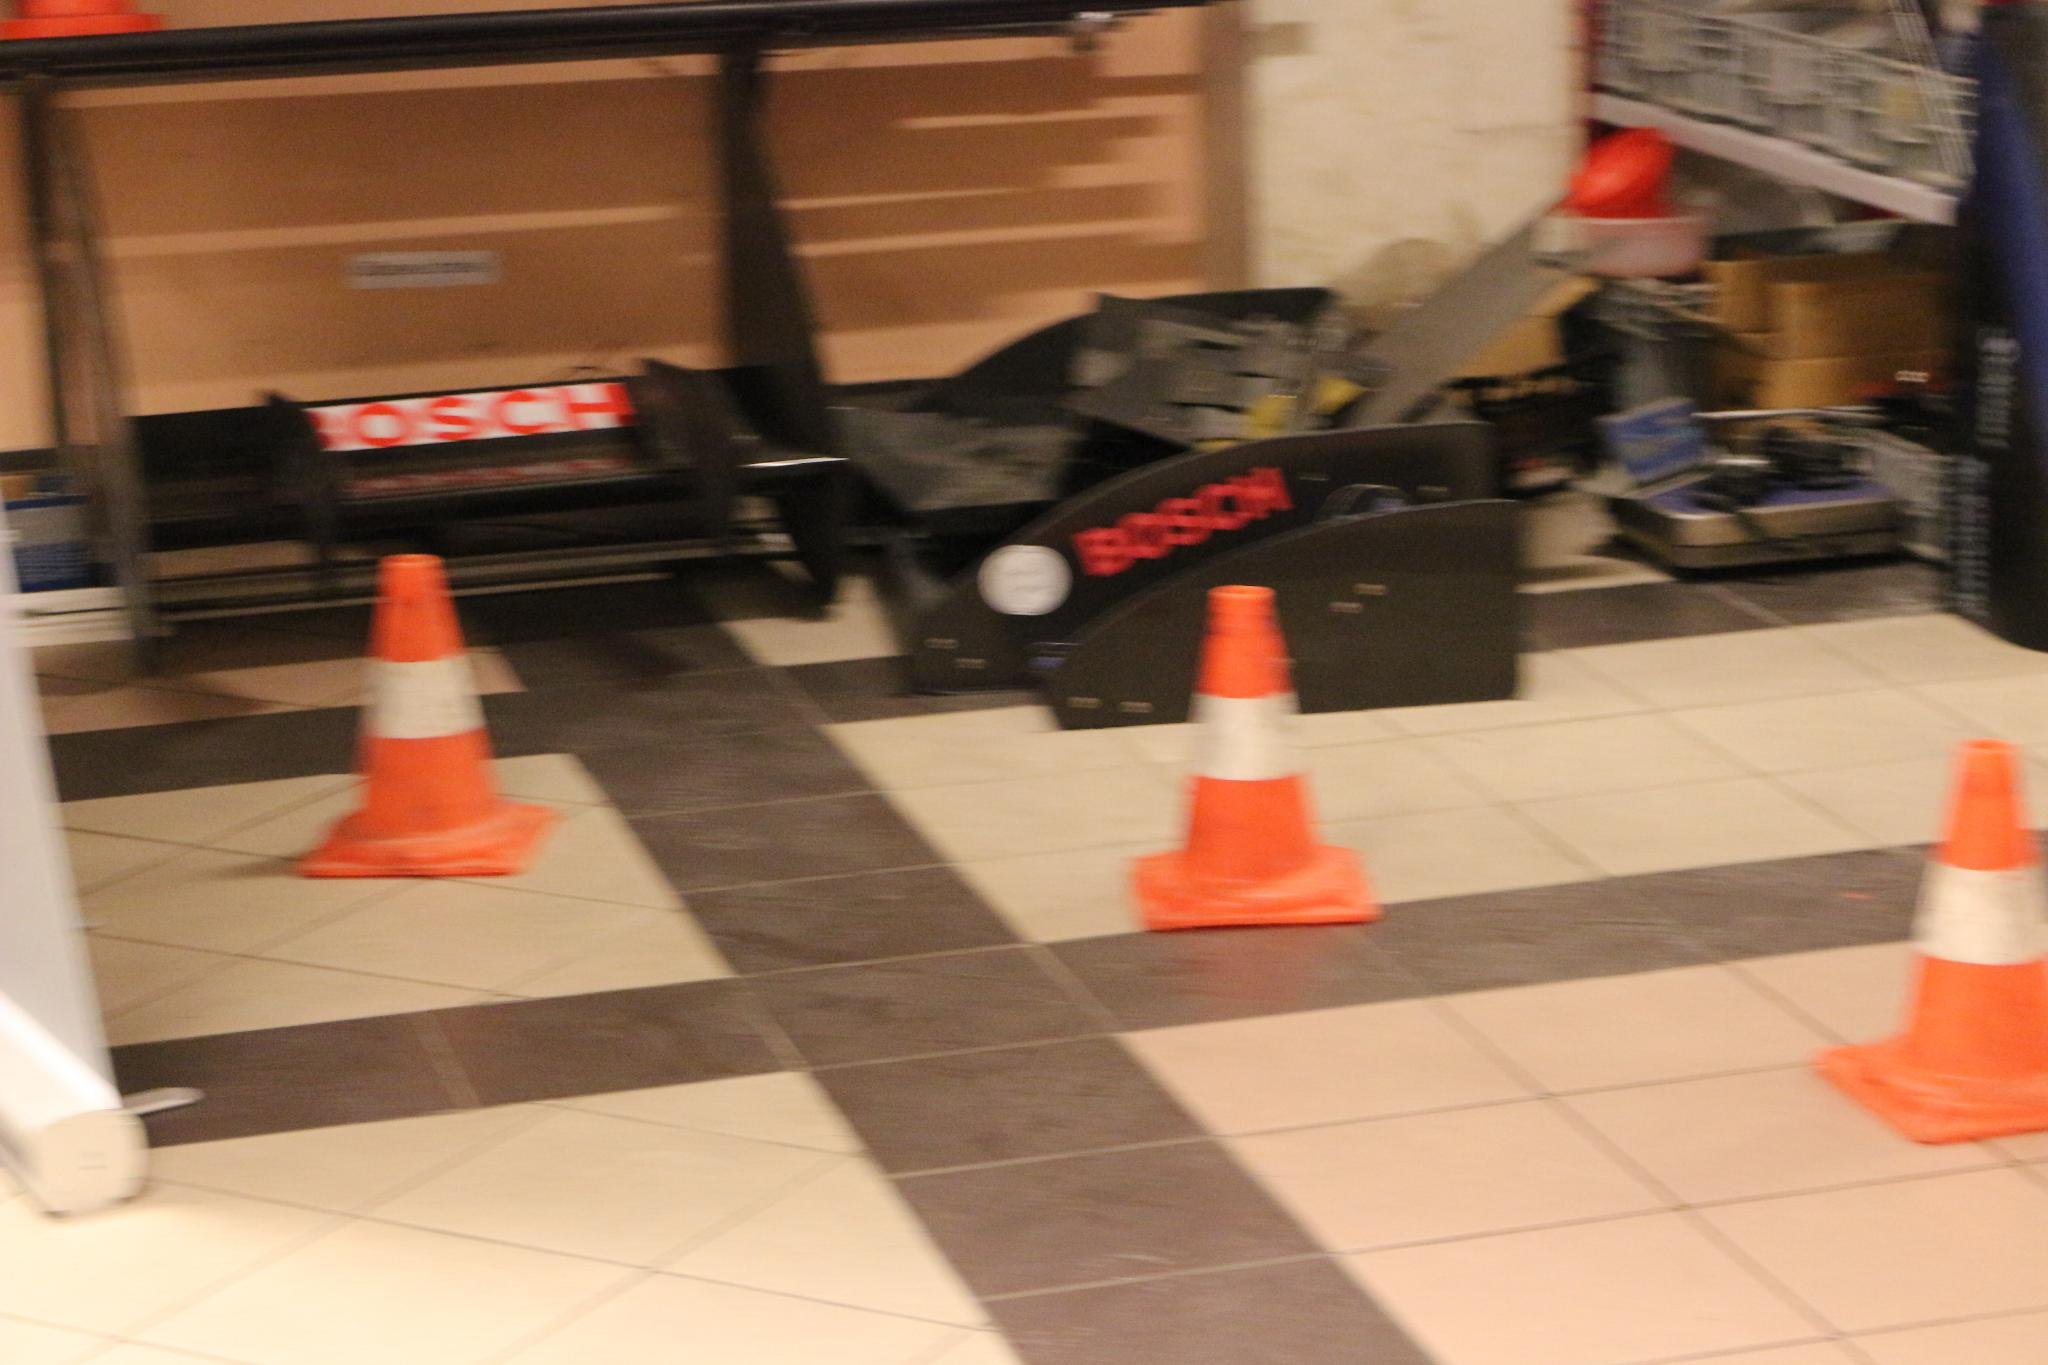Orange_Cone: (1826, 736, 2045, 1143), (1128, 574, 1376, 928), (285, 550, 542, 873)
